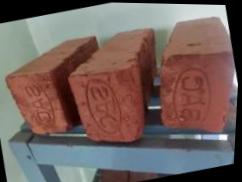brick: (148, 40, 240, 142), (64, 64, 145, 154), (2, 66, 71, 143)
